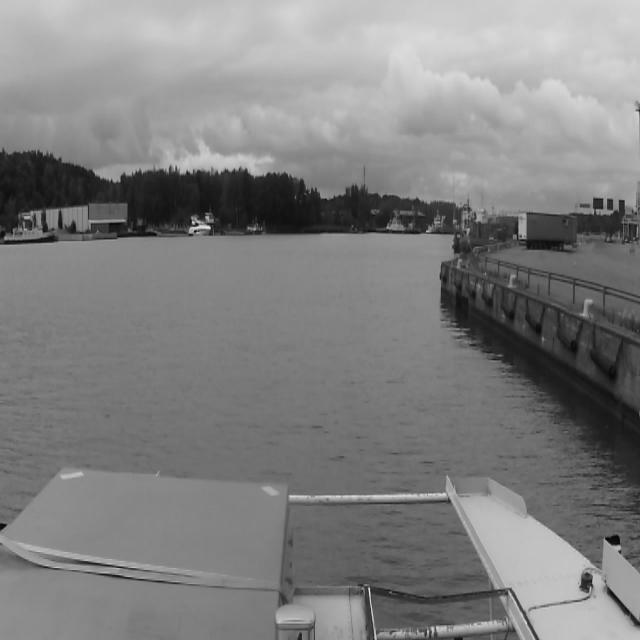ship: (387, 212, 420, 235), (188, 215, 212, 236), (244, 222, 266, 235)
